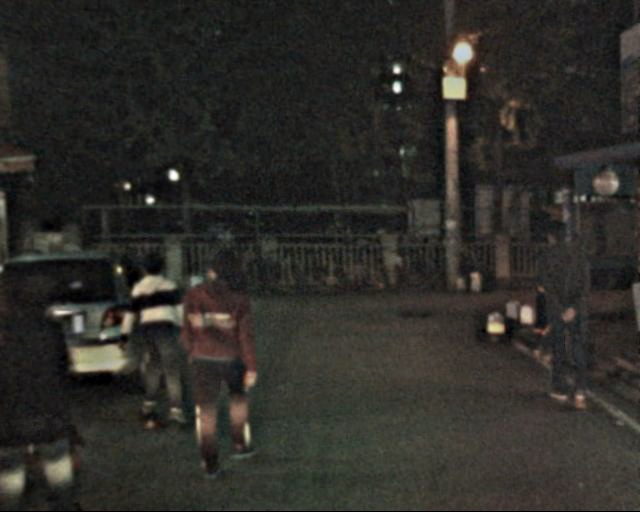person: (4, 252, 92, 512), (171, 243, 264, 482), (526, 208, 599, 419), (120, 246, 190, 439)
